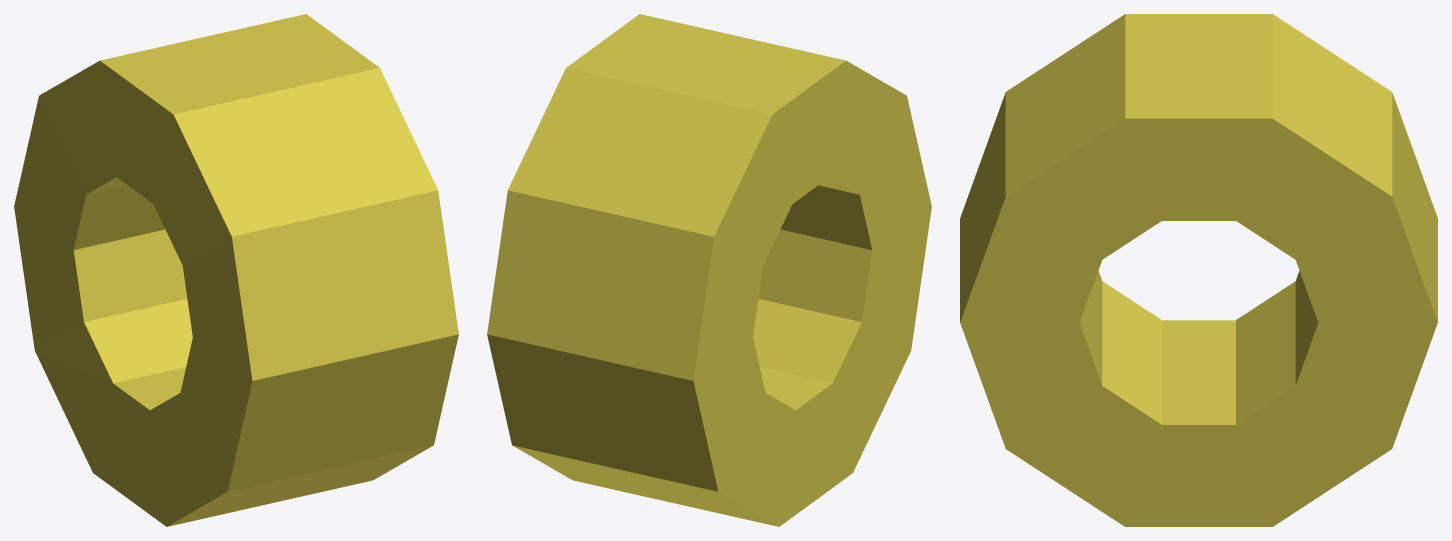
The model's file is wheel2.glb.
3 views of the same model, side by side, from view 1: azimuth 30°, elevation 25°; view 2: azimuth 150°, elevation 25°; view 3: azimuth 270°, elevation 25° (orthographic).
Visible parts, largest first — view 1: Mesh_Mesh_head_geo.001_lambert2SG.001; view 2: Mesh_Mesh_head_geo.001_lambert2SG.001; view 3: Mesh_Mesh_head_geo.001_lambert2SG.001.
Part boxes in pixels (x1,y1,x2,y2): Mesh_Mesh_head_geo.001_lambert2SG.001: [14, 14, 458, 526]; Mesh_Mesh_head_geo.001_lambert2SG.001: [487, 14, 931, 526]; Mesh_Mesh_head_geo.001_lambert2SG.001: [960, 14, 1437, 526].
Bounding box in the file's own units: 0.00207 × 0.00384 × 0.004.
